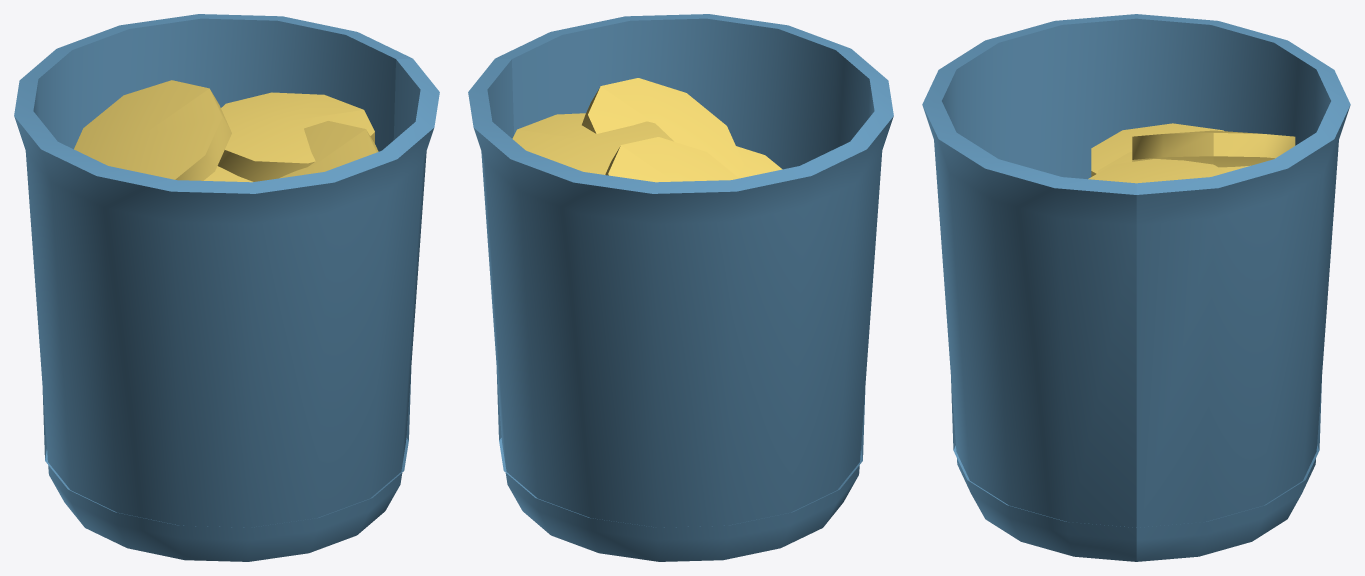
File: amusement-arcade-and-seaside-pier-token-cup-9f319aba__35414.glb
3 renders of one model, left to right at view 1: azimuth 30°, elevation 25°; view 2: azimuth 150°, elevation 25°; view 3: azimuth 270°, elevation 25°, orthographic.
Visible parts, largest first — view 1: token-cup; view 2: token-cup; view 3: token-cup.
Boxes of the visible parts, x1=… form: token-cup: x1=14, y1=14, x2=439, y2=561; token-cup: x1=468, y1=14, x2=893, y2=561; token-cup: x1=922, y1=14, x2=1350, y2=561.
Size of the model in its own units: 0.11 by 0.111 by 0.11.
